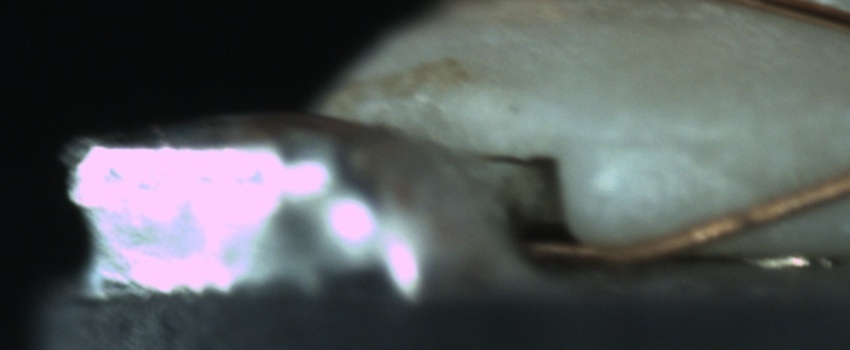DL: (589, 108, 751, 176)
